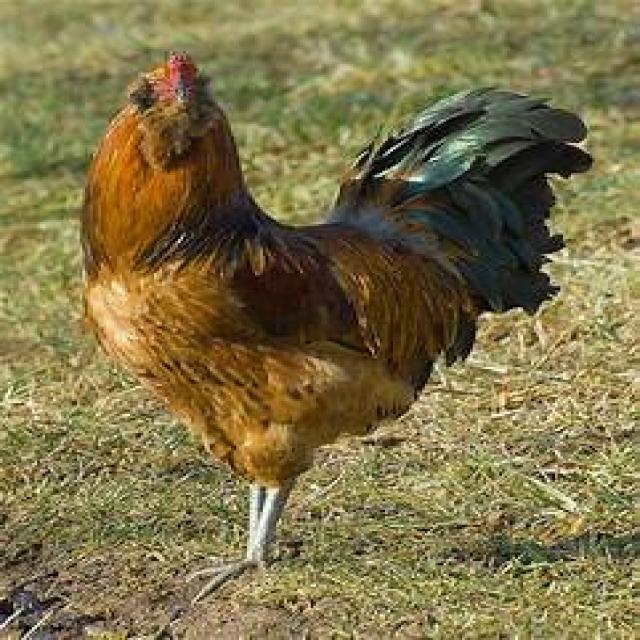hen: (80, 53, 595, 576)
